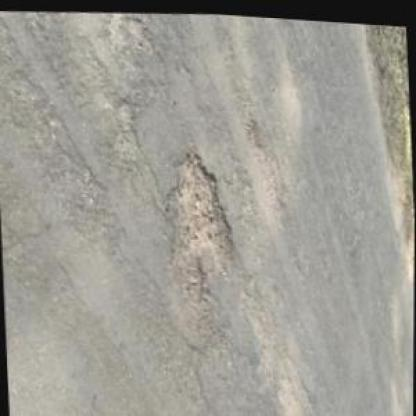pothole: (160, 146, 242, 314)
